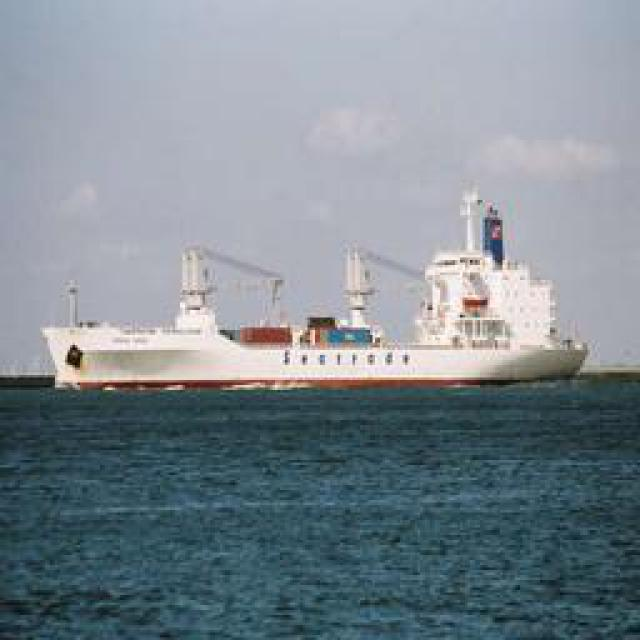Ship: (36, 209, 601, 394)
